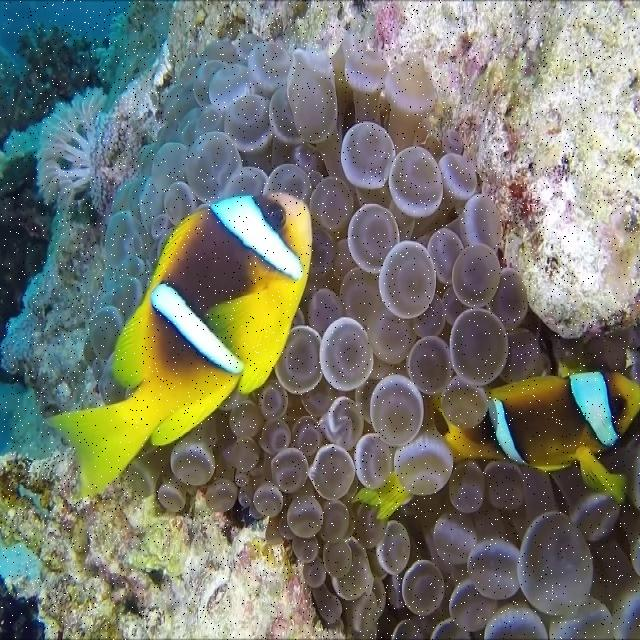fish: (44, 191, 313, 498), (437, 363, 639, 503)
reefs: (81, 34, 639, 639), (33, 86, 107, 206)
